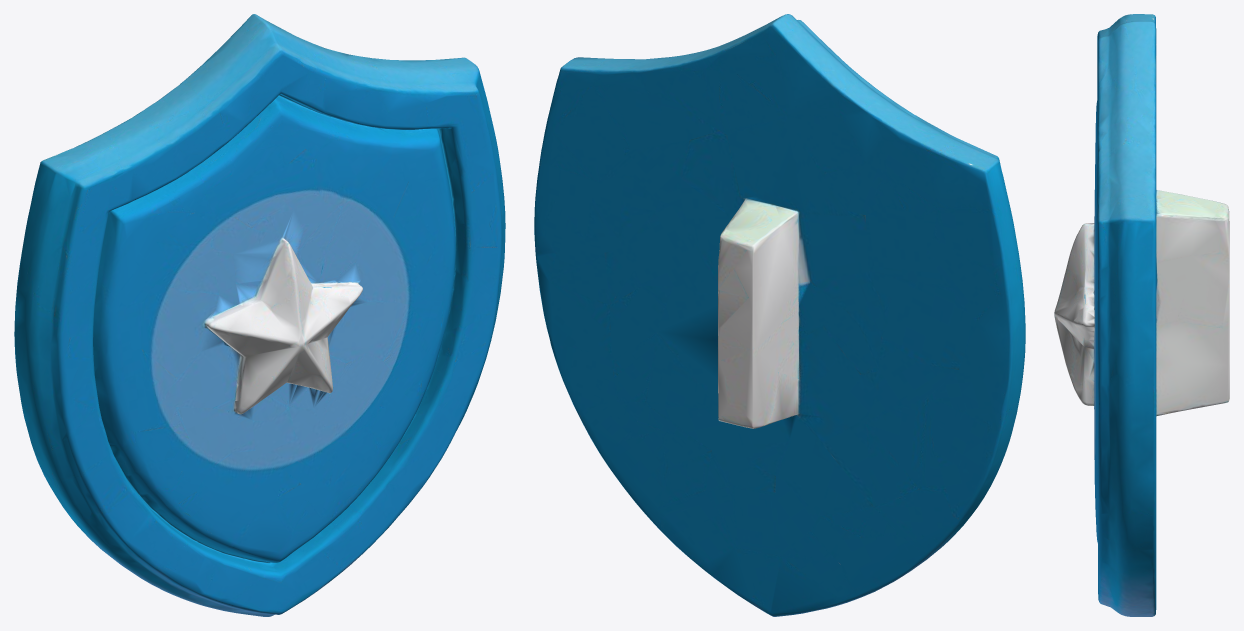
The model's file is gem-shield.glb.
3 renders of one model, left to right at view 1: azimuth 30°, elevation 25°; view 2: azimuth 150°, elevation 25°; view 3: azimuth 270°, elevation 25°, orthographic.
Bounding box in the file's own units: 1.6 × 1.9 × 0.5119.
Materials: 1 (1 with a texture image).
